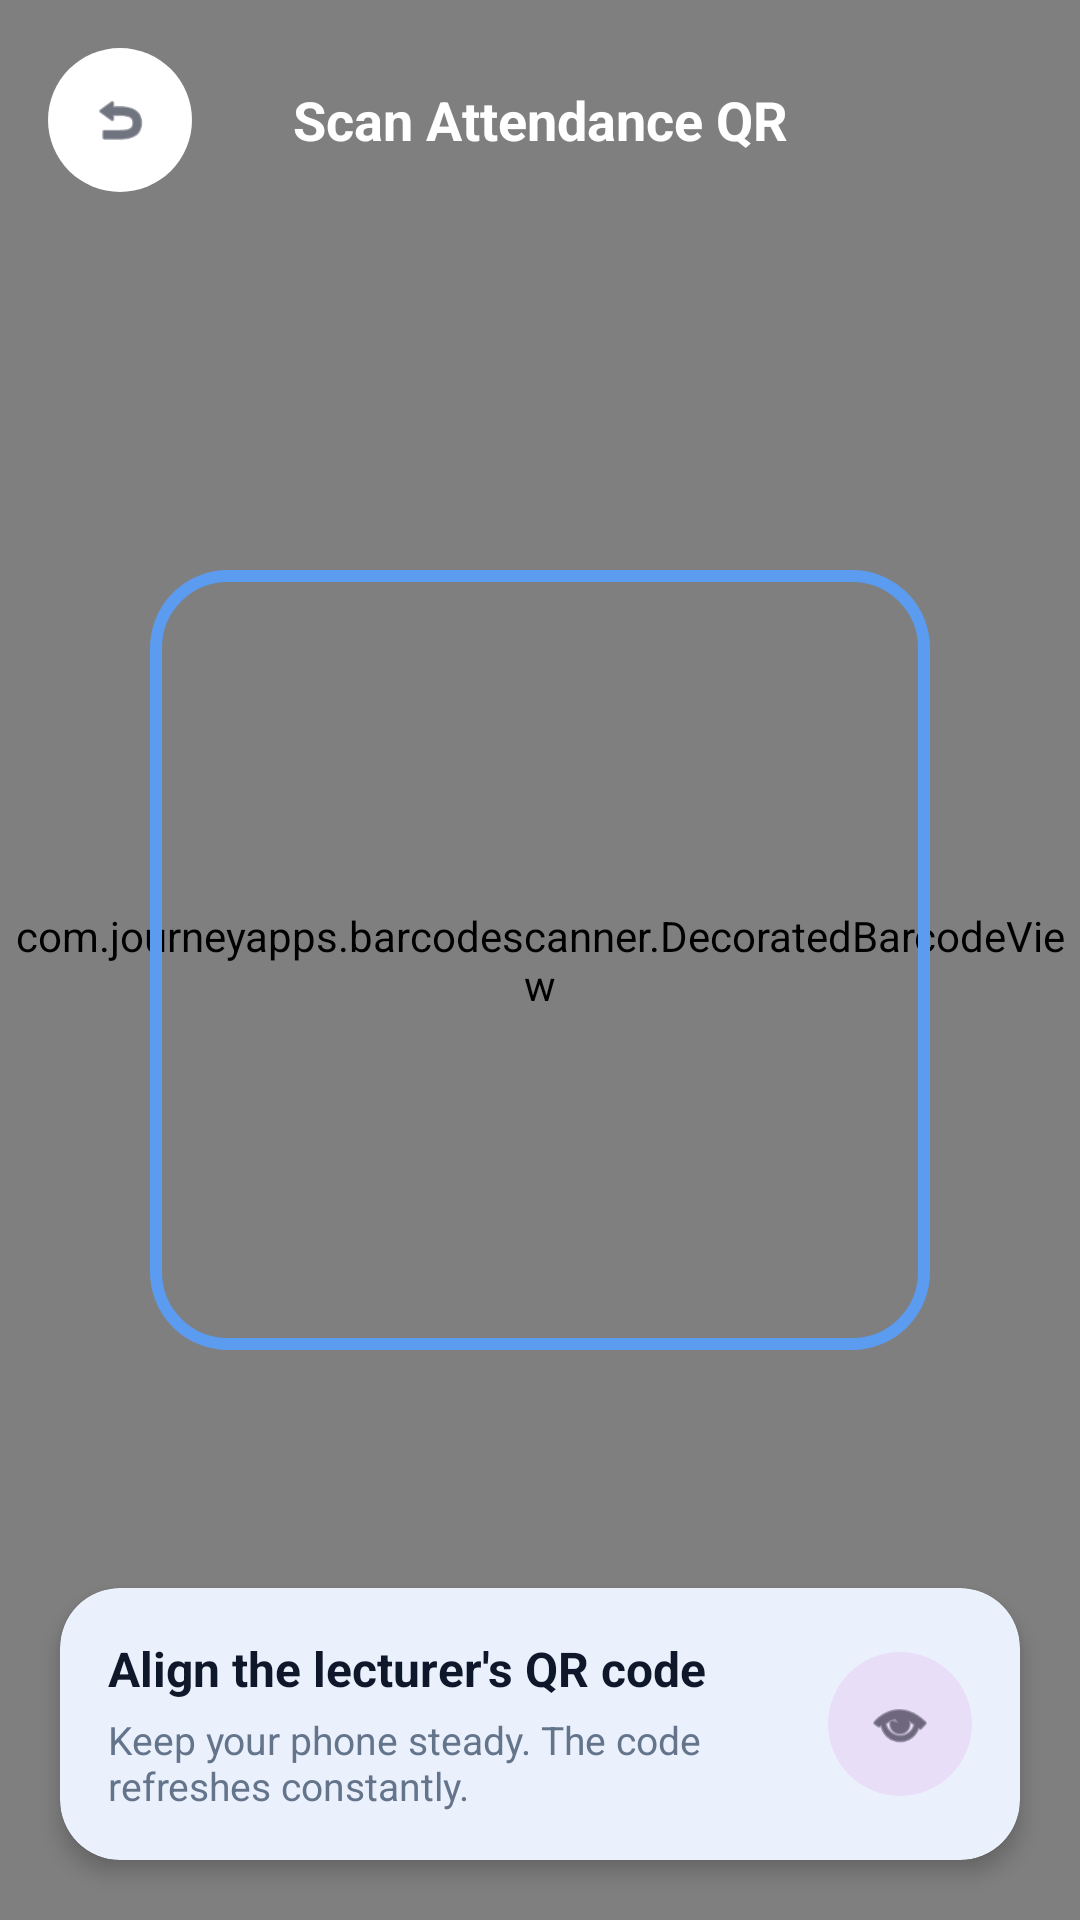

Icon click points for this 1080*1920 phone screenshot, format [x,y]:
Back: [120,120]
